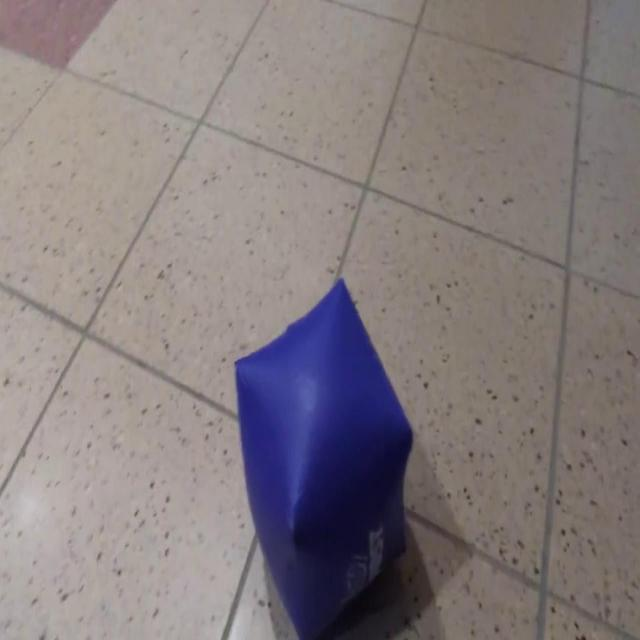frc_cube: (234, 276, 414, 640)
